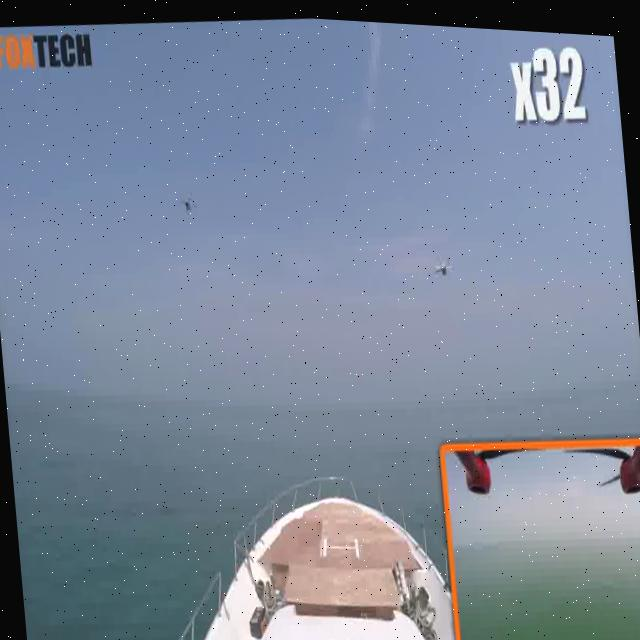drone: (2, 310, 640, 640)
